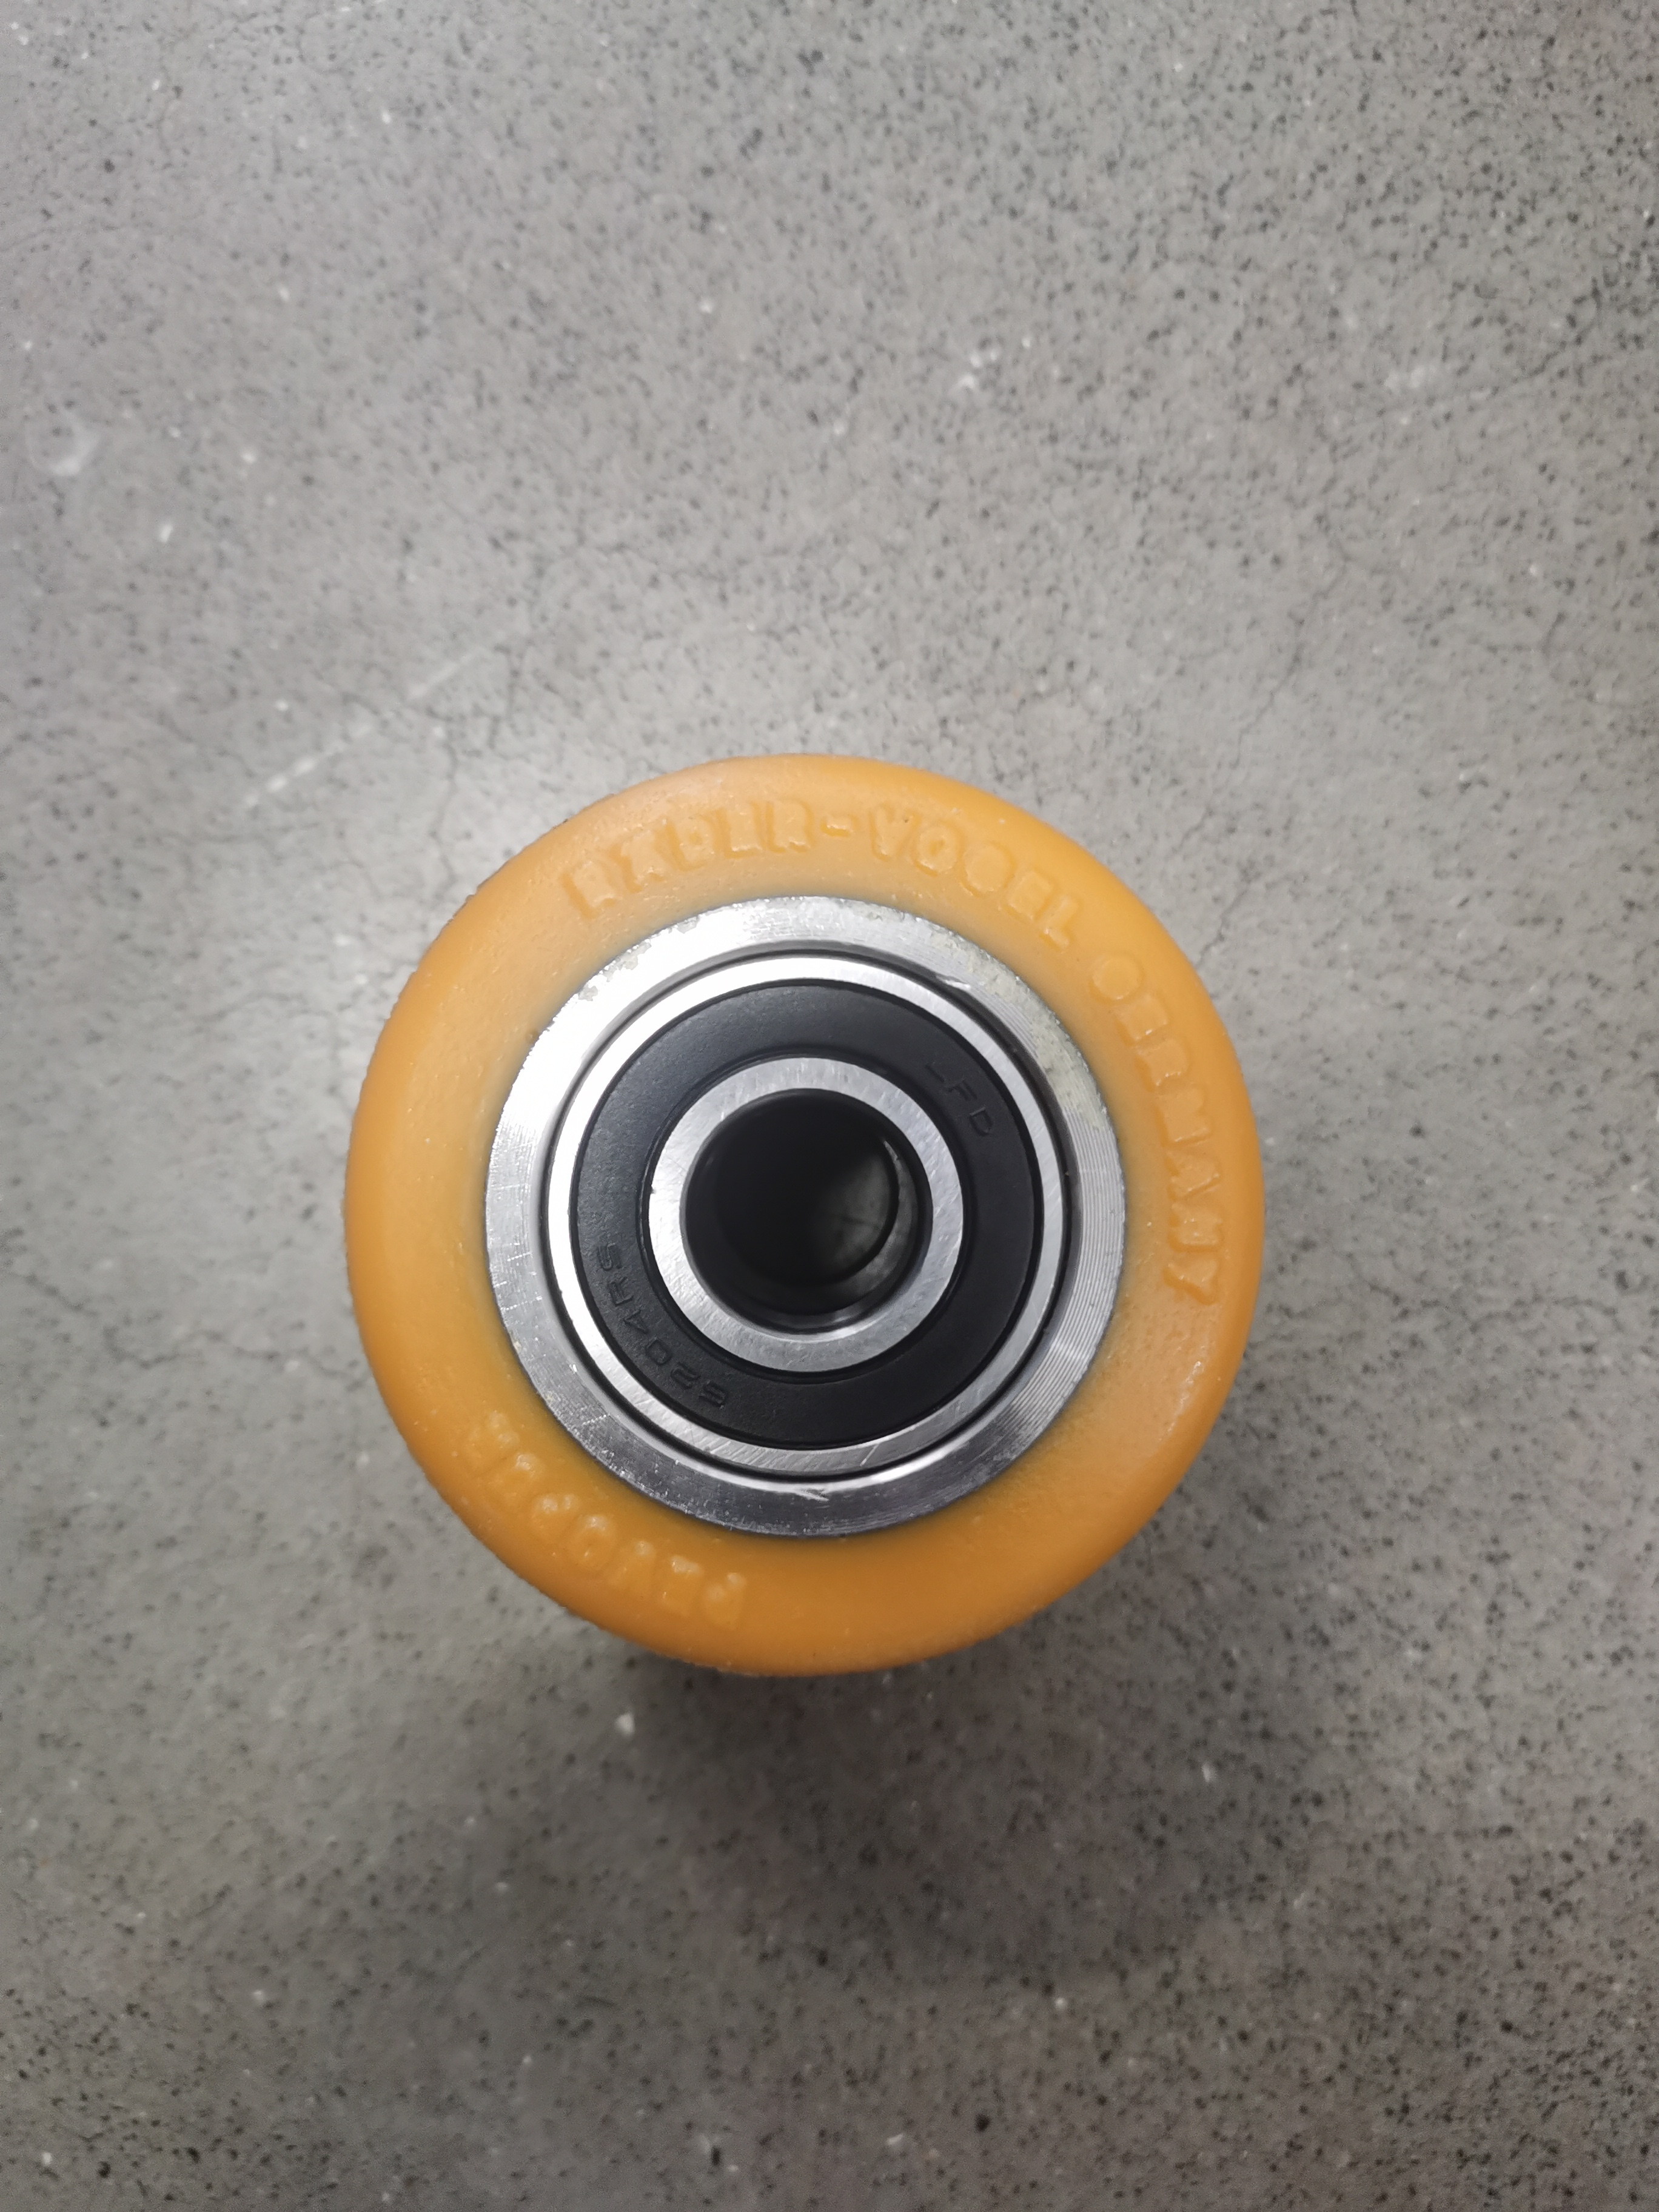good_wheel: (240, 740, 1331, 1679)
